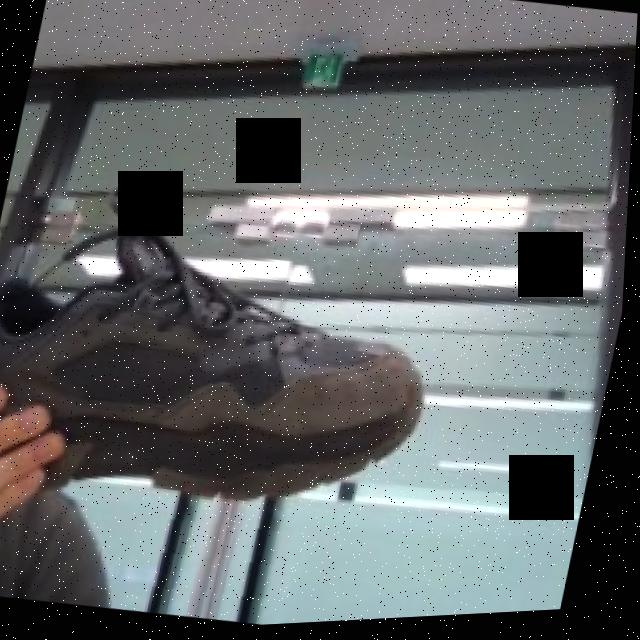shoe: (0, 156, 489, 640)
